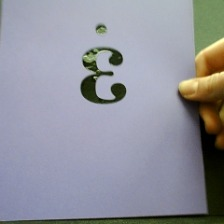violet3: (73, 21, 133, 117)
